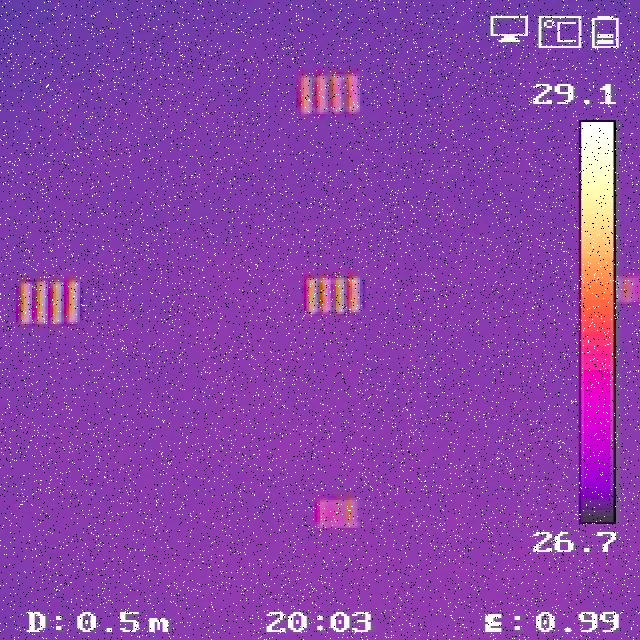Distinguishable 4-bar target: (293, 69, 364, 115), (19, 278, 84, 327), (307, 273, 365, 319)
Indistinguishable 4-bar target: (317, 495, 363, 530)
